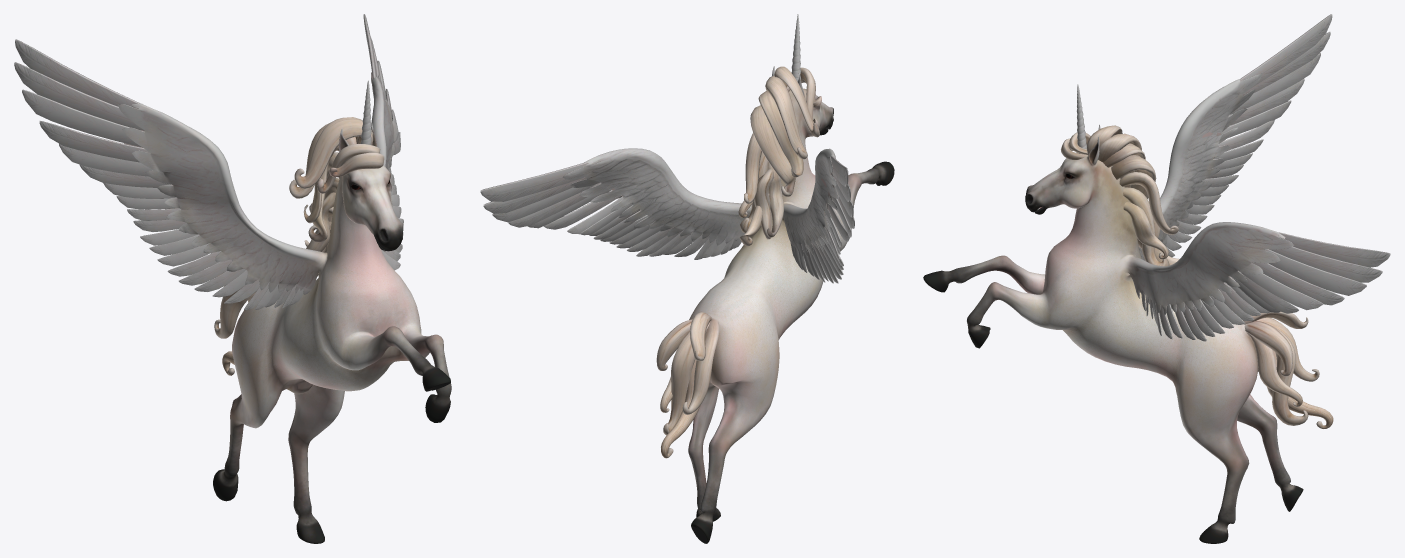
File: Unicorn.gltf
The picture shows the model from 3 angles, left to right: view 1: azimuth 30°, elevation 25°; view 2: azimuth 150°, elevation 25°; view 3: azimuth 270°, elevation 25°; orthographic projection. The views are drawn at different scales.
Visible parts, largest first — view 1: node-0; view 2: node-0; view 3: node-0.
Boxes of the visible parts, x1=… form: node-0: x1=14, y1=14, x2=451, y2=543; node-0: x1=480, y1=14, x2=894, y2=543; node-0: x1=923, y1=14, x2=1390, y2=543.
Bounding box in the file's own units: 388 × 499 × 473.
1 material, 1 textured.
